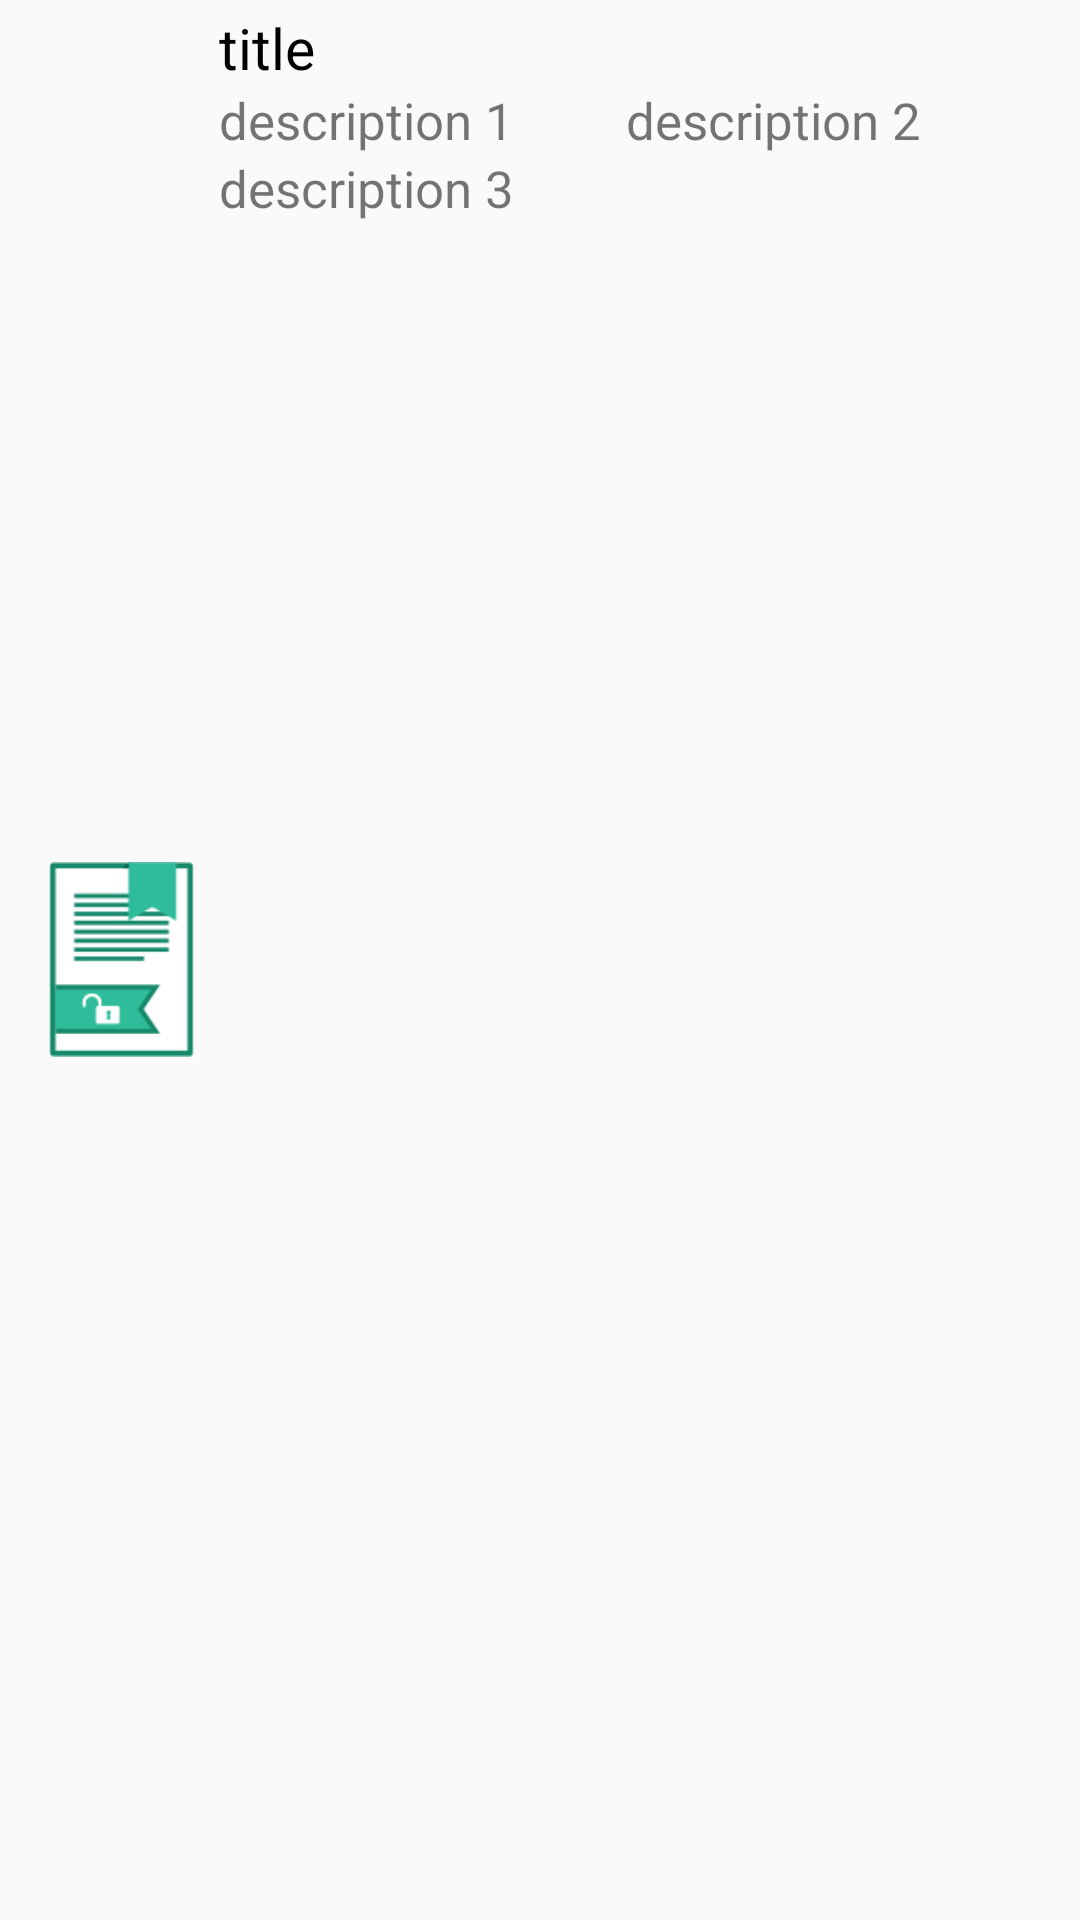

Icon click points for this 1080x1920 phone screenshot, format (x=x, y=y):
doc: (x=121, y=959)
